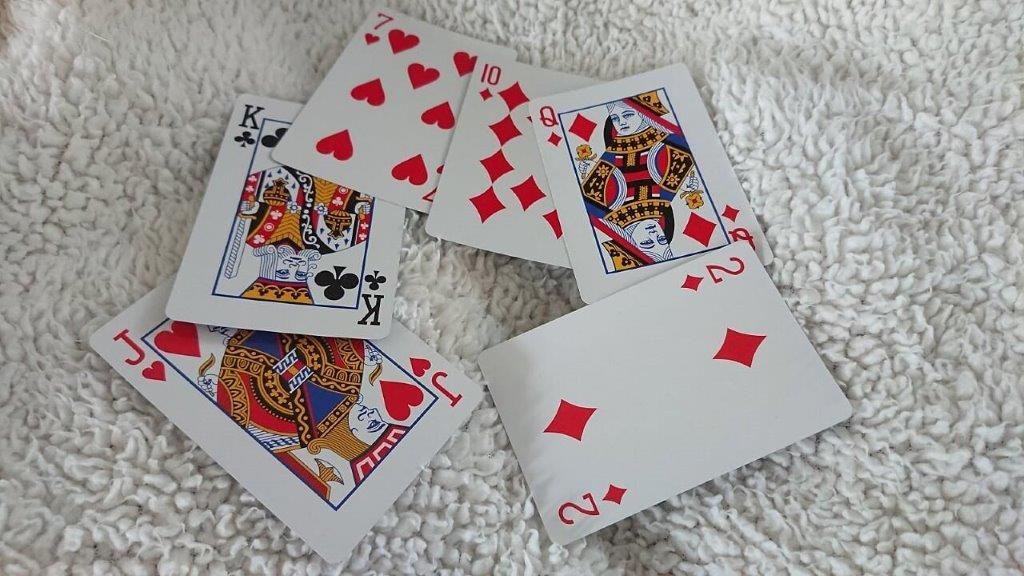10D: (474, 59, 507, 107)
7H: (361, 9, 397, 49)
KC: (230, 98, 268, 157)
QD: (533, 99, 570, 151)
